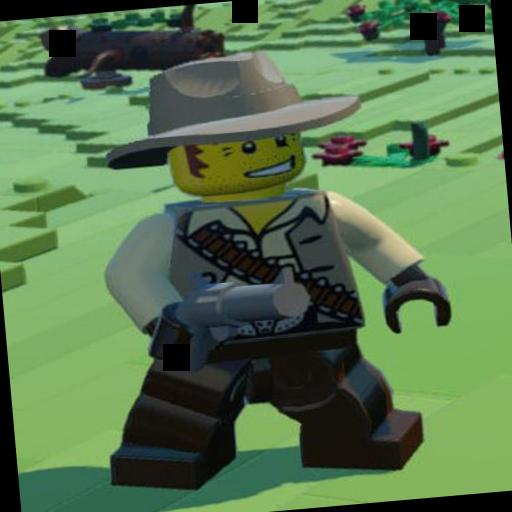Handgun: (144, 258, 312, 370)
